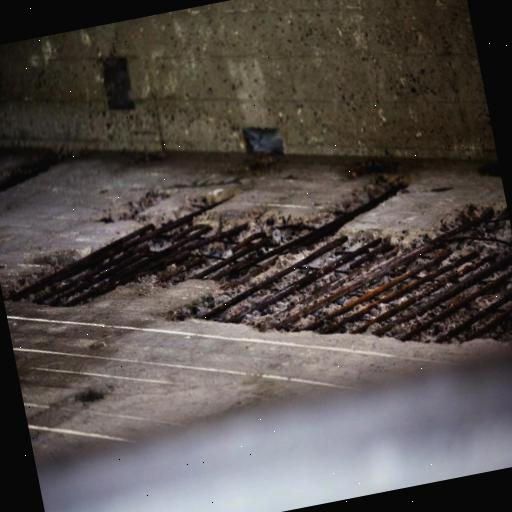spalling: (11, 164, 512, 344)
